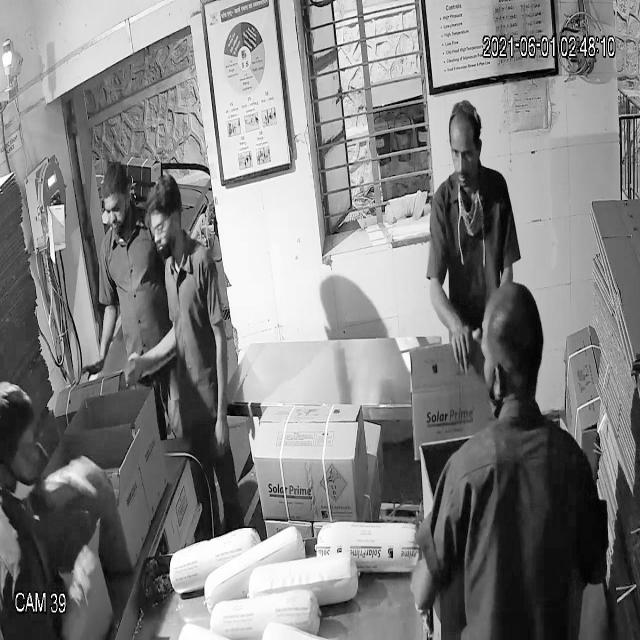glasses: (148, 212, 183, 240)
no-glass: (443, 140, 485, 170), (96, 198, 136, 222)
